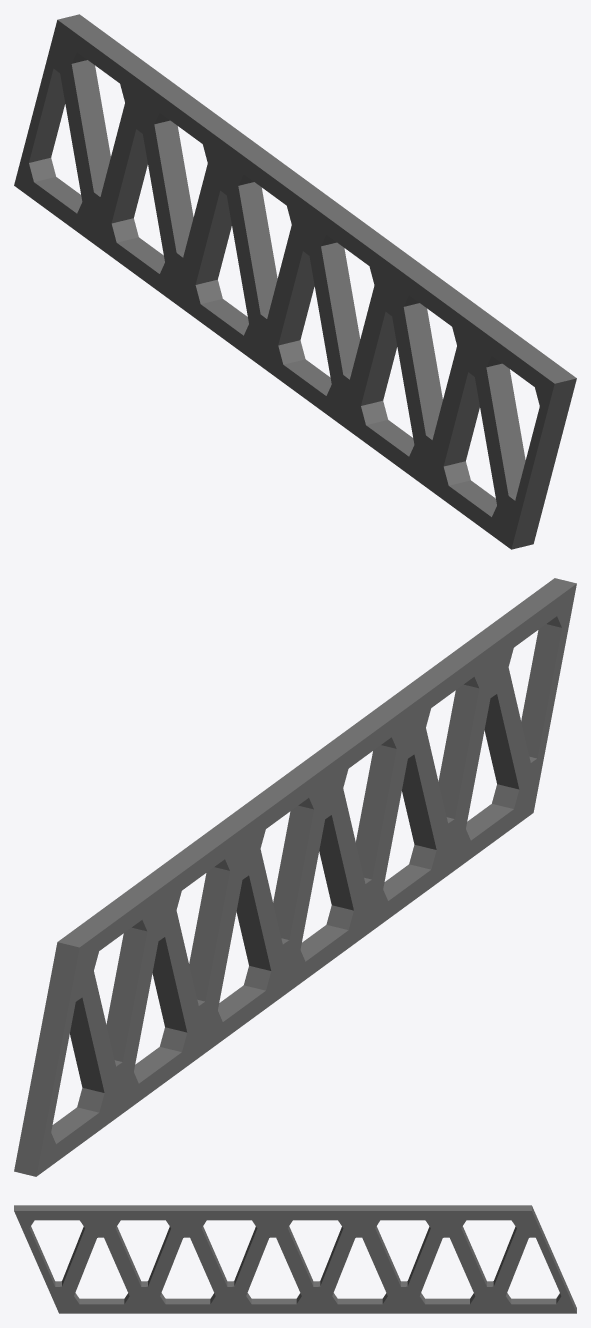
File: Metal Support-transformed.glb
3 views of the same model, one above another, from view 1: azimuth 30°, elevation 25°; view 2: azimuth 150°, elevation 25°; view 3: azimuth 270°, elevation 25° (orthographic). The views are drawn at different scales.
Parts seen in each view (by area): view 1: MetalSupport; view 2: MetalSupport; view 3: MetalSupport.
Boxes of the visible parts, <box> form: MetalSupport: <box>14,14,576,549</box>; MetalSupport: <box>14,578,576,1176</box>; MetalSupport: <box>14,1205,576,1313</box>.
Size of the model in its own units: 0.1414 by 1.2 by 5.95.
Materials: 1 (1 with a texture image).
